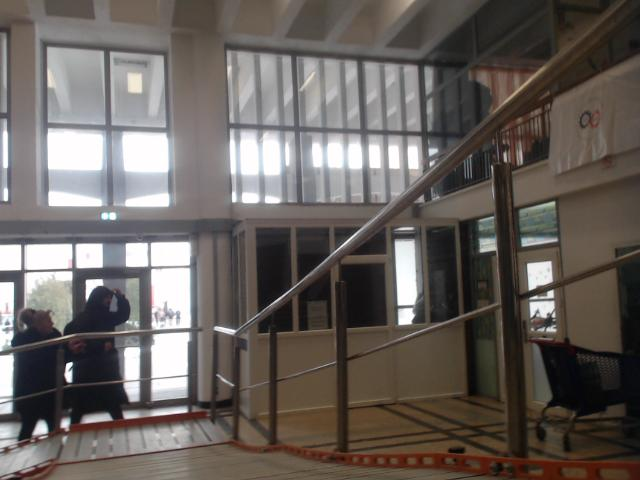rampDown: (0, 411, 509, 479)
ramps-railing: (211, 0, 639, 439), (269, 160, 639, 457), (0, 328, 202, 356), (54, 344, 65, 429), (133, 375, 178, 381), (64, 382, 102, 387), (102, 380, 128, 385), (180, 374, 195, 380)
